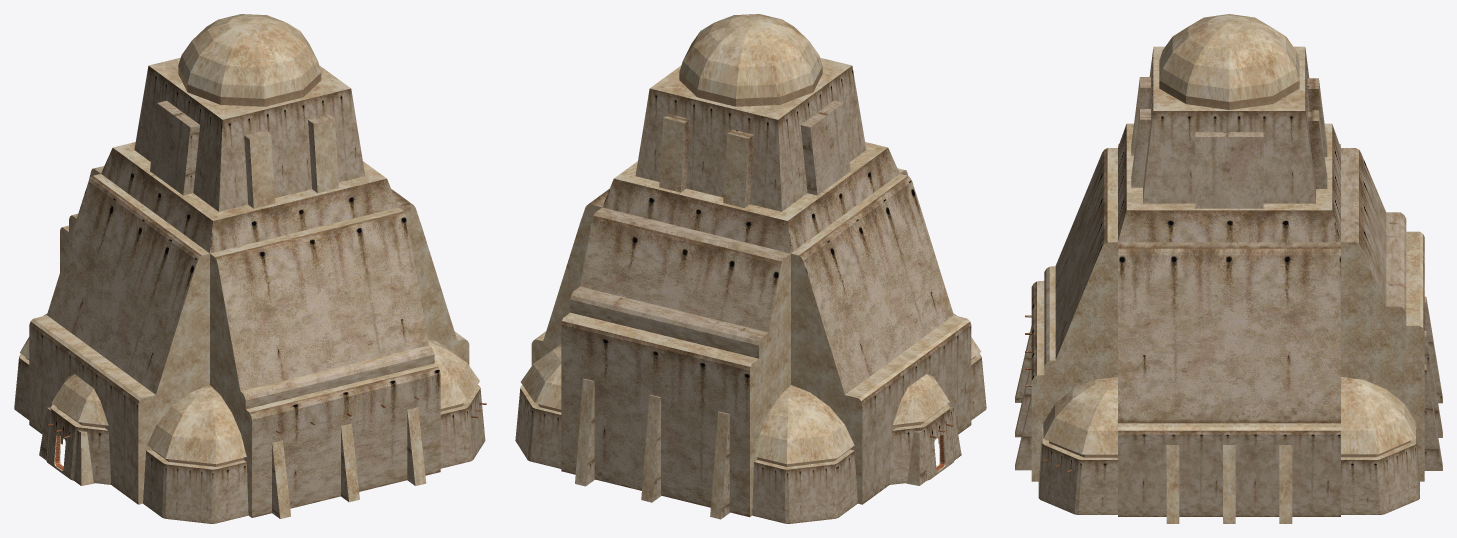
The model's file is thm_tato_imprv_building_s11_r0_mesh_l0.fbx.
The picture shows the model from 3 angles, left to right: view 1: azimuth 30°, elevation 25°; view 2: azimuth 150°, elevation 25°; view 3: azimuth 270°, elevation 25°; orthographic projection. The views are drawn at different scales.
Parts seen in each view (by area): view 1: mesh_node; view 2: mesh_node; view 3: mesh_node.
Part boxes in pixels (box(x1,y1,x2,y2)): mesh_node: box(14, 14, 486, 523); mesh_node: box(515, 14, 986, 523); mesh_node: box(1015, 14, 1442, 523).
Size of the model in its own units: 39.02 by 40.37 by 37.88.
